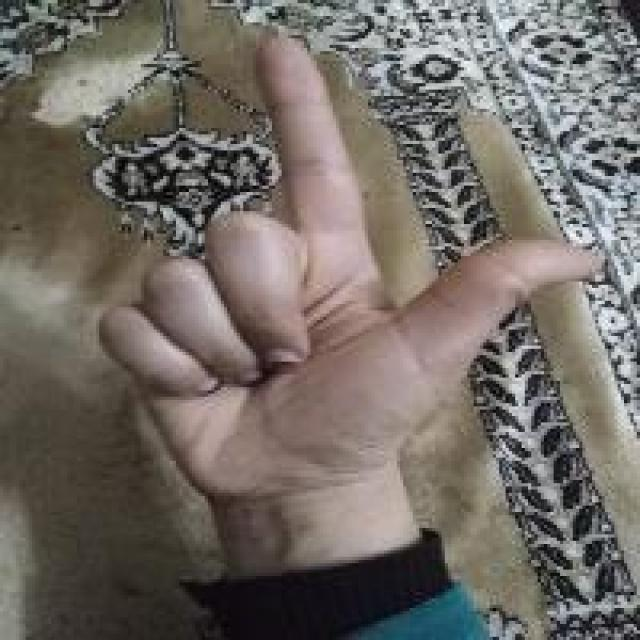L: (106, 29, 598, 496)
